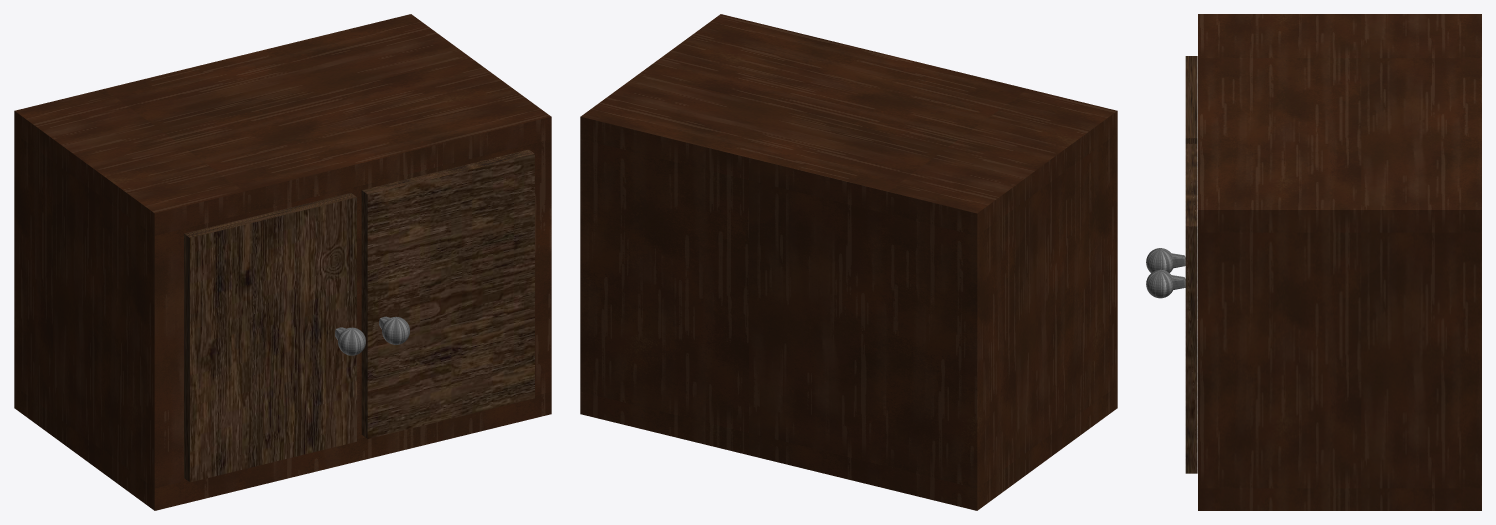
Rendered from szafka.fbx.
The picture shows the model from 3 angles, left to right: view 1: azimuth 30°, elevation 25°; view 2: azimuth 150°, elevation 25°; view 3: azimuth 270°, elevation 25°; orthographic projection.
Visible parts, largest first — view 1: Cube, Cube.002, Sphere.001; view 2: Cube; view 3: Cube, Cube.002, Sphere.001.
Part boxes in pixels (box(x1,y1,x2,y2)): Cube: box(14, 14, 551, 510); Cube.002: box(184, 149, 534, 482); Sphere.001: box(335, 316, 409, 355); Cube: box(580, 14, 1117, 510); Cube: box(1198, 14, 1481, 510); Cube.002: box(1185, 56, 1197, 473); Sphere.001: box(1146, 248, 1185, 298).
Bounding box in the file's own units: 340 × 243 × 246.
